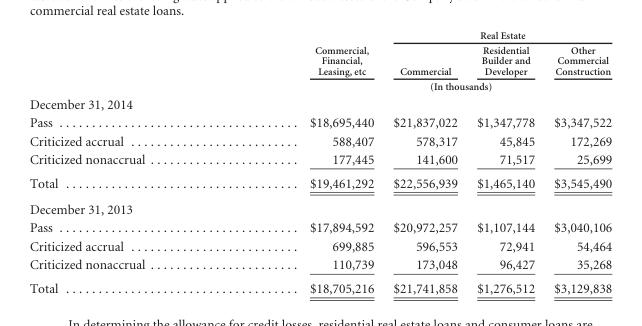table: (28, 29, 611, 295)
table column: (28, 29, 226, 295), (226, 29, 383, 295), (383, 29, 466, 295), (466, 29, 543, 295), (543, 29, 611, 295)
table column header: (28, 29, 611, 94)
table projected row header: (28, 196, 611, 218), (28, 94, 611, 113)
table row: (28, 42, 611, 78), (28, 171, 611, 196), (28, 196, 611, 218), (28, 150, 611, 171), (28, 255, 611, 276), (28, 94, 611, 113), (28, 131, 611, 150), (28, 236, 611, 255), (28, 276, 611, 295), (28, 113, 611, 131), (28, 218, 611, 236), (28, 78, 611, 94), (28, 29, 611, 42)
table spanning cell: (226, 29, 383, 78), (226, 78, 611, 94), (383, 29, 611, 42)
